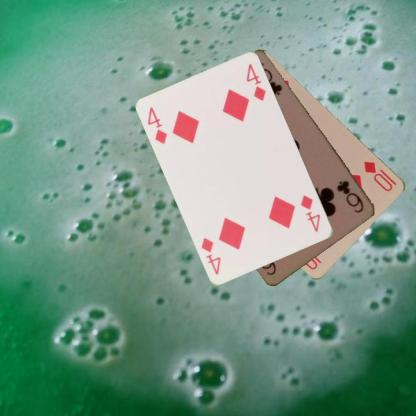10d: (361, 158, 398, 193)
4d: (145, 104, 169, 146), (298, 192, 322, 233)
6c: (334, 178, 366, 214)
